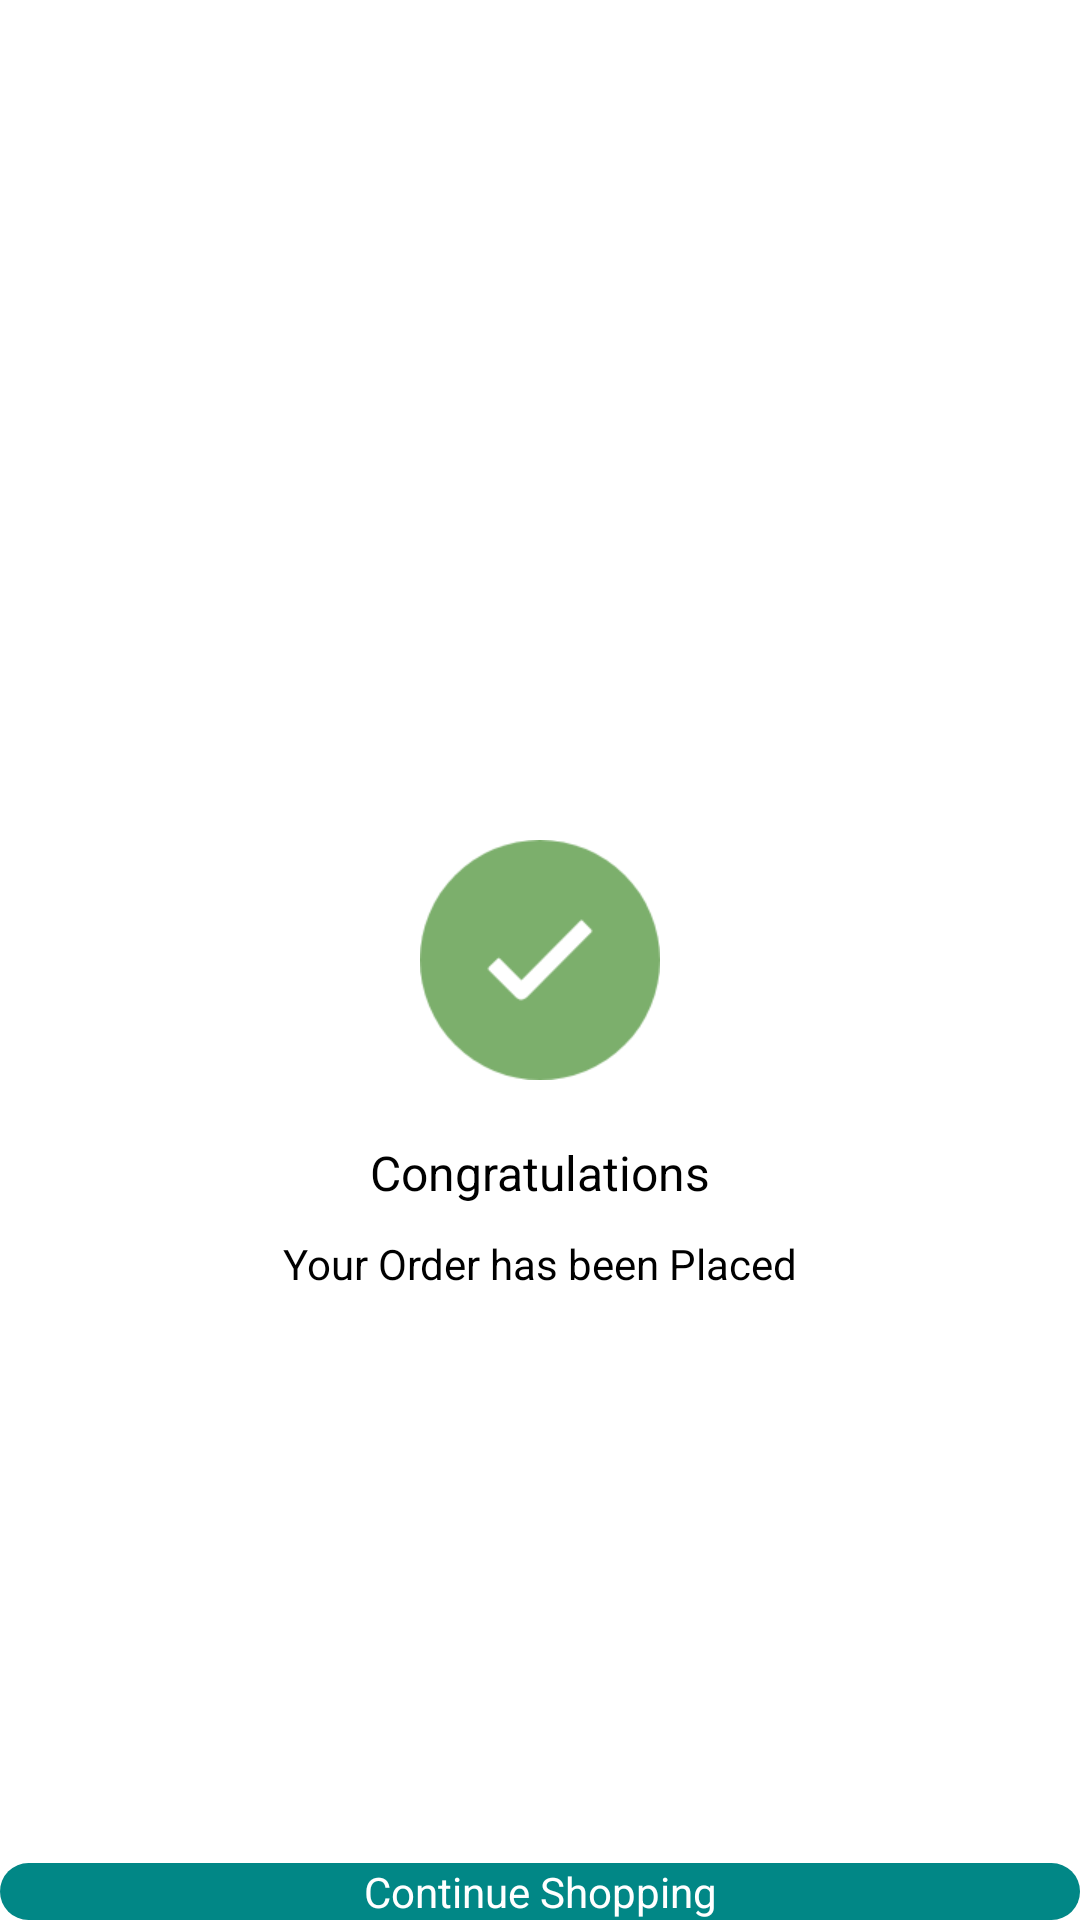

Point at icon controls on the screen. Image size 1080 × 1920, points as [x,y].
check: [540,960]
